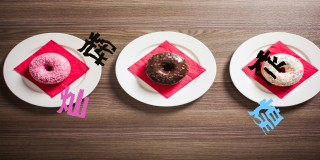灿: (55, 83, 89, 118)
烂: (249, 50, 285, 88)
煌: (247, 97, 283, 134)
辉: (77, 29, 115, 67)
